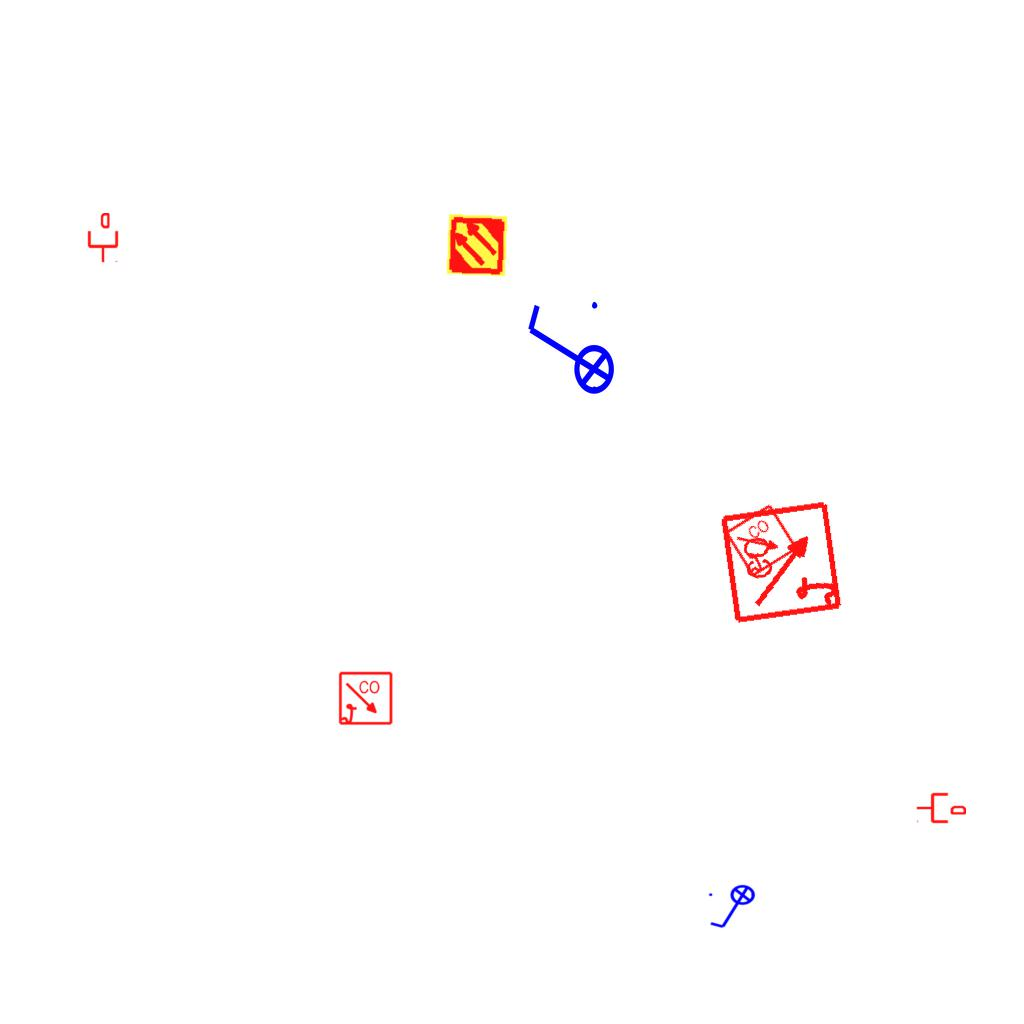ASR_Ansaugrauchmelder: (444, 212, 510, 278)
Ausschalter_beleuchtet: (520, 296, 616, 408), (706, 884, 762, 932)
Datenanschluss_einfach: (86, 213, 120, 263), (916, 791, 966, 825)
ROA_Rauchmelder_optisch_mit_Signalgeber_(Sockelsirene): (718, 497, 847, 626), (723, 502, 801, 580), (338, 671, 394, 727)
